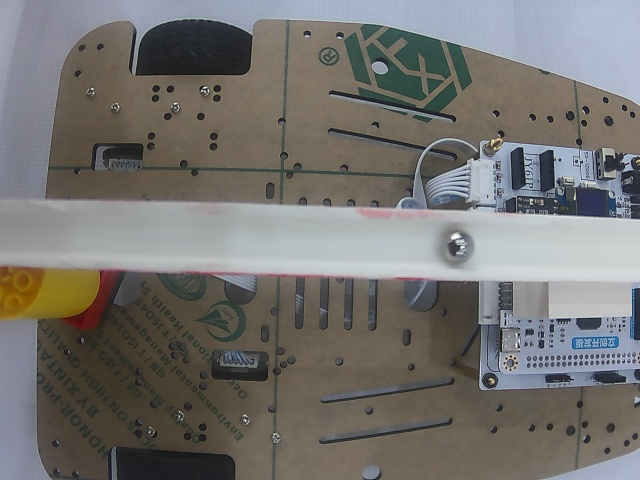steelball: (441, 229, 474, 264)
